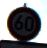Speed Limit -60-: (5, 6, 40, 40)
